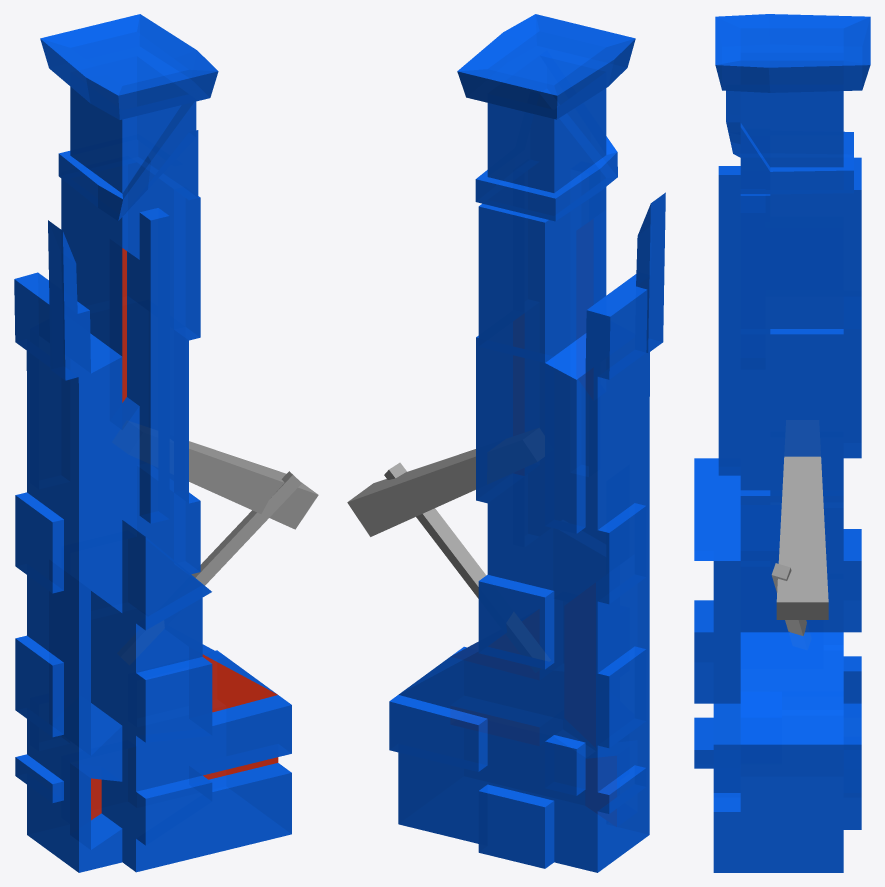
3 views of the same model, side by side, from view 1: azimuth 30°, elevation 25°; view 2: azimuth 150°, elevation 25°; view 3: azimuth 270°, elevation 25° (orthographic).
Visible parts, largest first — view 1: Box005, Box003, Box004; view 2: Box005, Box003, Box004; view 3: Box005, Box003, Box004.
Boxes of the visible parts, x1=… form: Box005: x1=14, y1=14, x2=291, y2=872; Box003: x1=189, y1=441, x2=318, y2=529; Box004: x1=191, y1=471, x2=301, y2=585; Box005: x1=389, y1=14, x2=665, y2=872; Box003: x1=347, y1=449, x2=475, y2=536; Box004: x1=384, y1=462, x2=486, y2=598; Box005: x1=694, y1=14, x2=870, y2=872; Box003: x1=776, y1=456, x2=828, y2=619; Box004: x1=771, y1=563, x2=806, y2=636.
Size of the model in its own units: 72.38 by 197 by 40.65.
